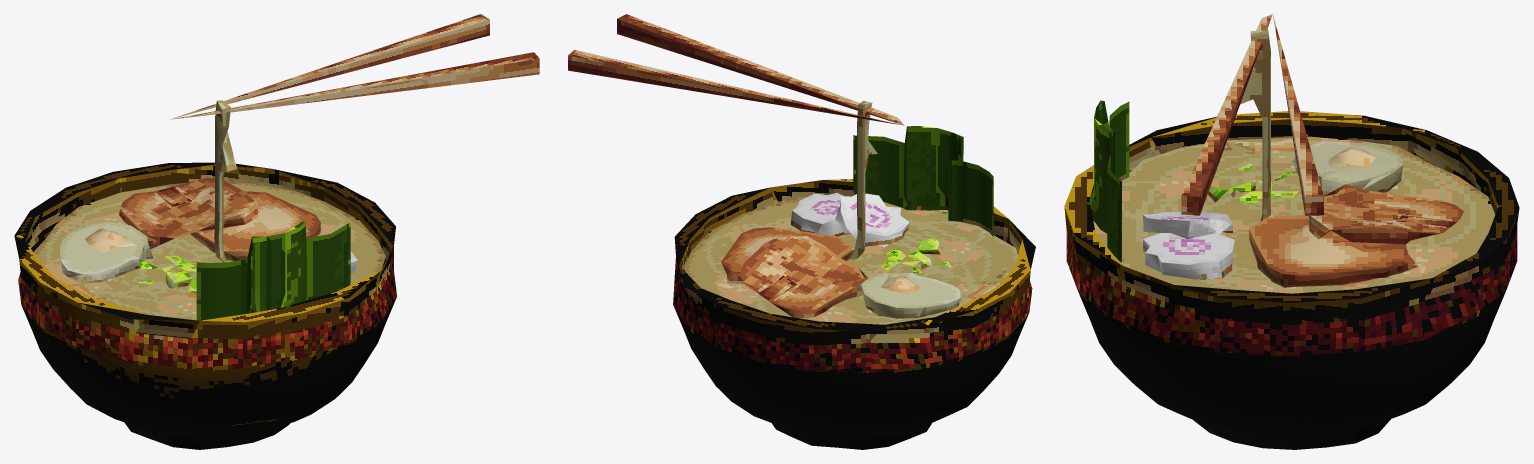
The model's file is food_ramen3.glb.
3 views of the same model, side by side, from view 1: azimuth 30°, elevation 25°; view 2: azimuth 150°, elevation 25°; view 3: azimuth 270°, elevation 25° (orthographic). The views are drawn at different scales.
Visible parts, largest first — view 1: mesh; view 2: mesh; view 3: mesh.
Boxes of the visible parts, x1,y1,x2,y2 form: mesh: (14,14,539,449); mesh: (568,14,1035,449); mesh: (1064,14,1519,449).
Size of the model in its own units: 0.1488 by 0.1 by 0.1091.
Materials: 1 (1 with a texture image).
